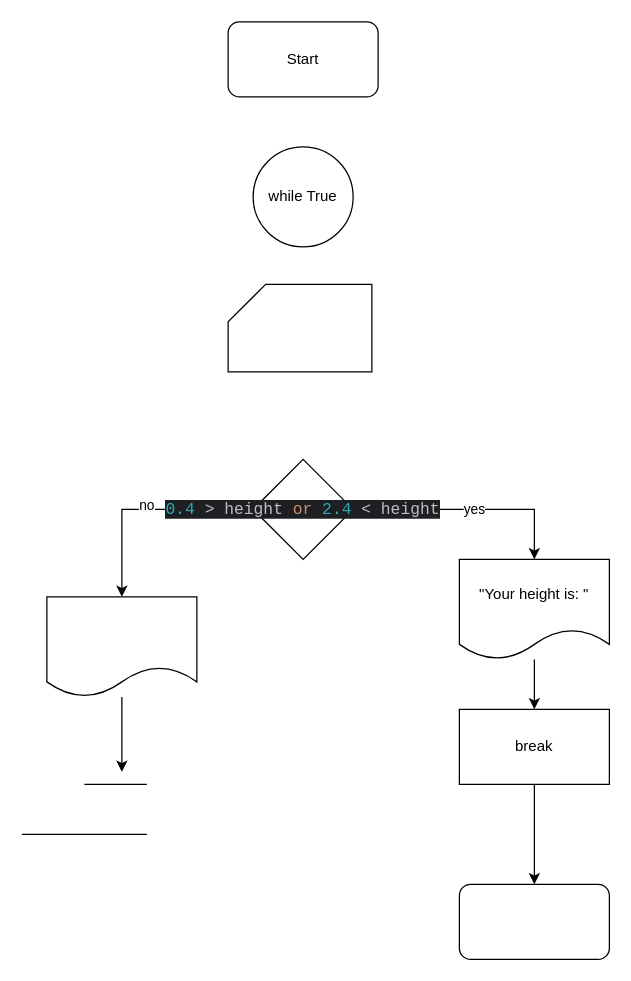
The diagram is 631 pixels wide and 981 high, and some of its shapes have lost their labels. The shapes that lost their labels are listed below. From the top down, each one's centre as x and y in pixels, then its label:
(299,327): height: (float): "What your height? "
(121,646): "Wrong input"
(533,921): End
